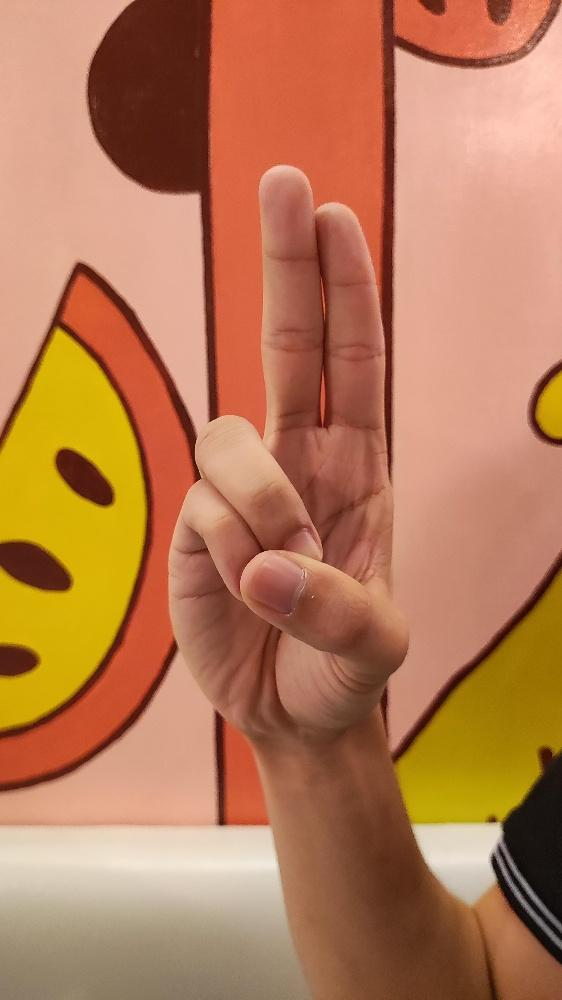u: (164, 162, 411, 736)
